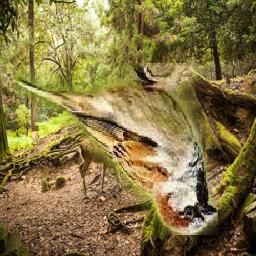Sparrow: (14, 63, 218, 235)
